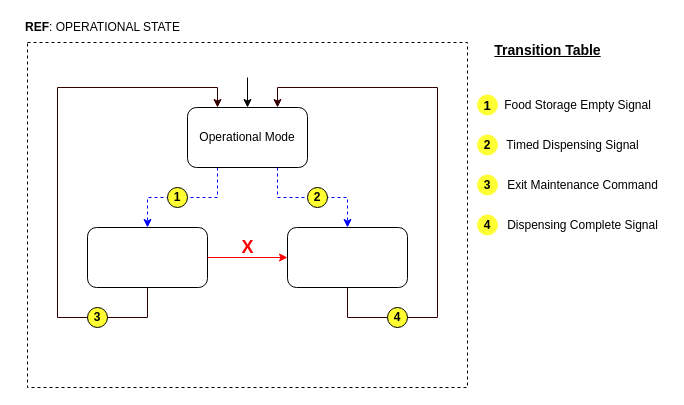
The diagram is 684 pixels wide and 405 high, and some of its shapes have lost their labels. The centre of each missing label's shape, as x and y in pixels:
"Dispensing Mode" belongs at (x=347, y=257).
"Maintenance Mode" belongs at (x=147, y=257).
